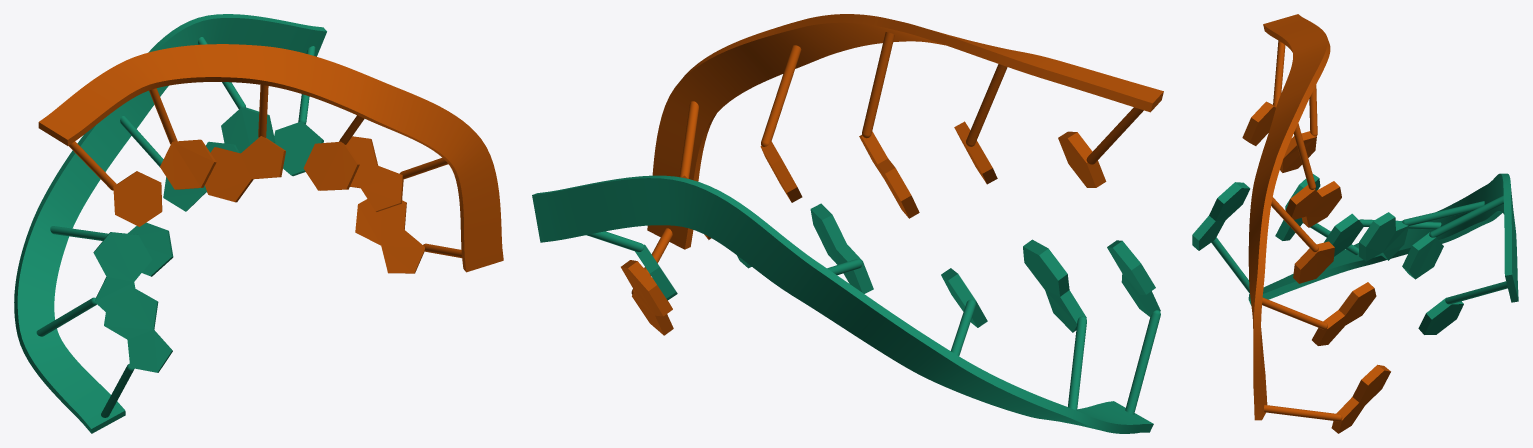
The model's file is E_DNA.glb.
3 renders of one model, left to right at view 1: azimuth 30°, elevation 25°; view 2: azimuth 150°, elevation 25°; view 3: azimuth 270°, elevation 25°, orthographic. The views are drawn at different scales.
Bounding box in the file's own units: 25.09 × 17.78 × 17.54.
